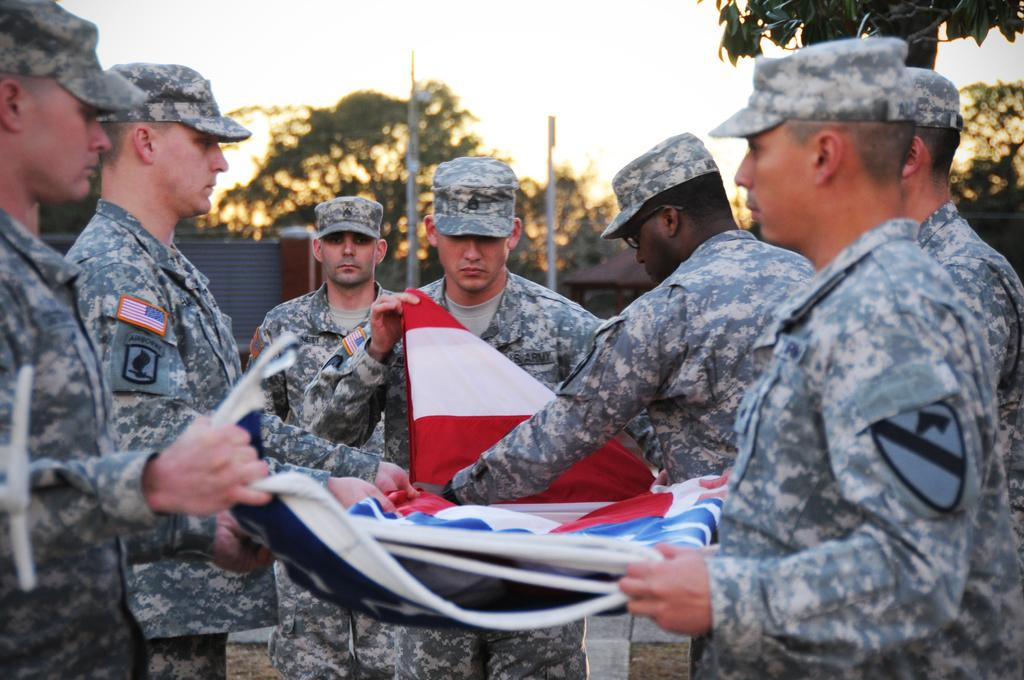Hat: (704, 36, 916, 138), (0, 0, 149, 119), (600, 127, 720, 243), (98, 62, 252, 145), (429, 155, 521, 236), (902, 66, 963, 130), (314, 197, 382, 239)
